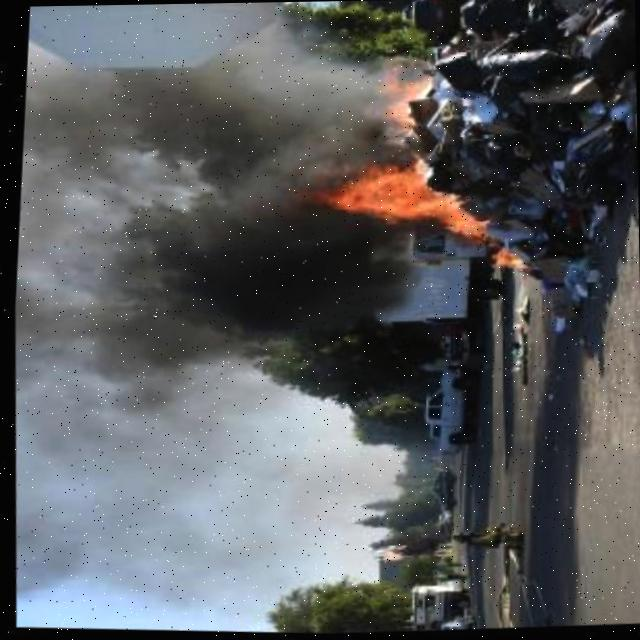fire: (328, 164, 500, 249), (358, 76, 438, 132), (468, 245, 535, 278)
